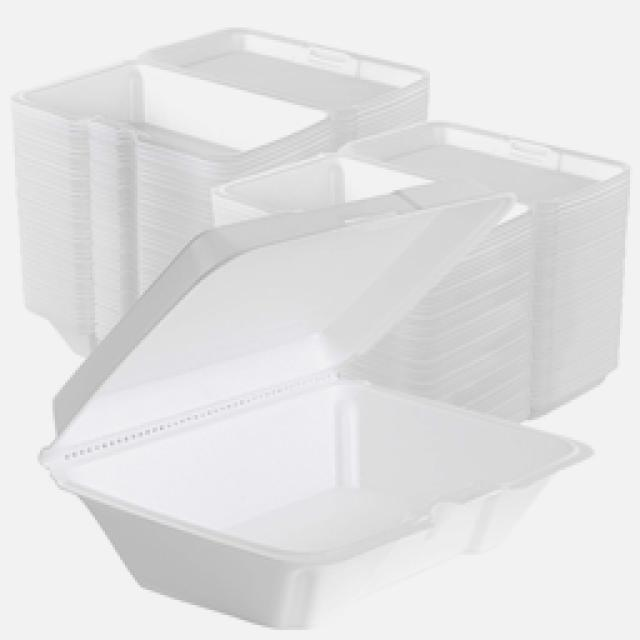inorganic: (45, 372, 587, 630), (48, 188, 488, 444), (349, 125, 623, 210), (131, 70, 327, 154), (214, 157, 363, 224)
